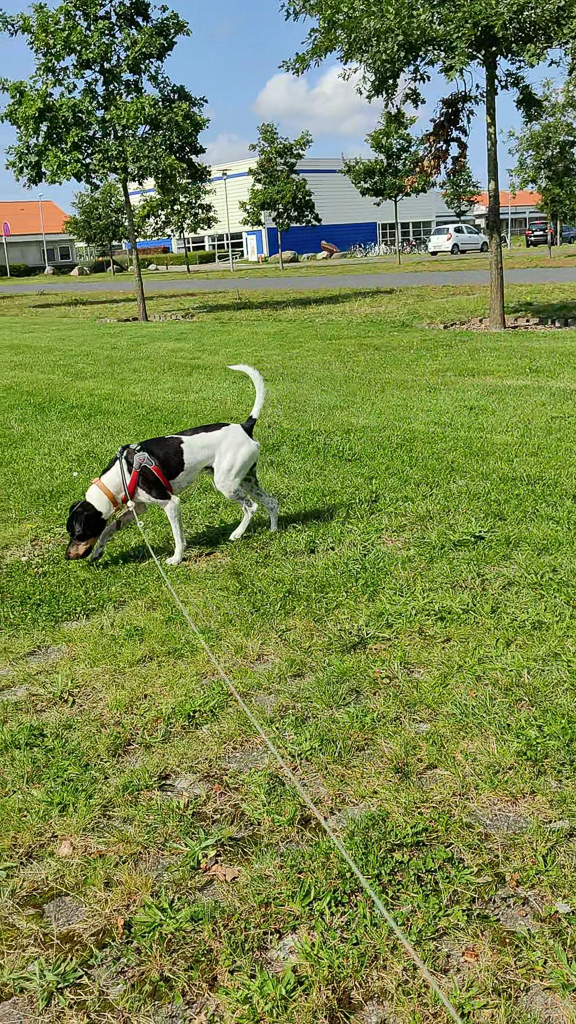Dog: (47, 360, 288, 574)
